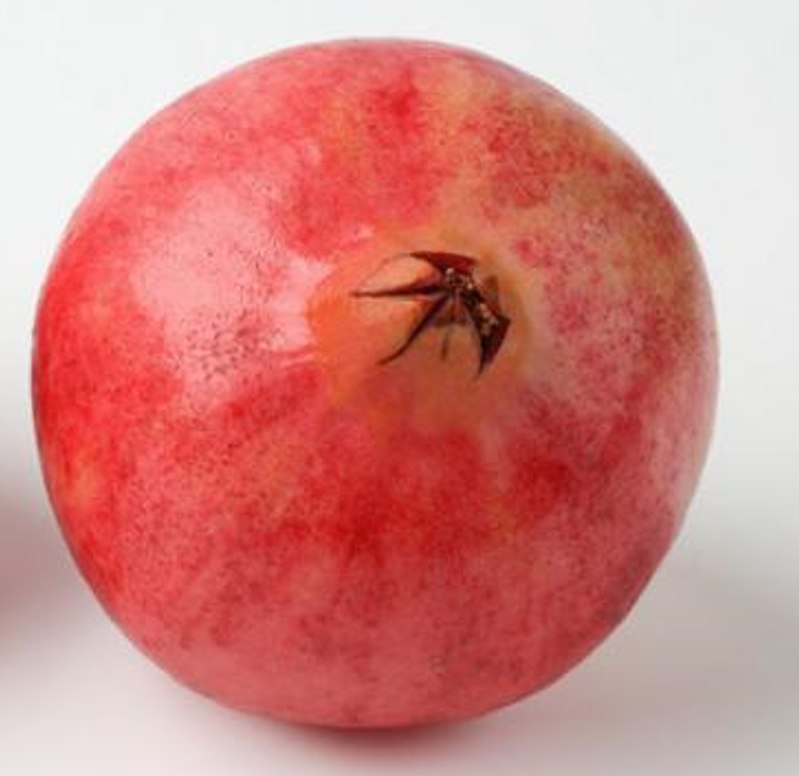pomegranate_A: (30, 36, 721, 731)
